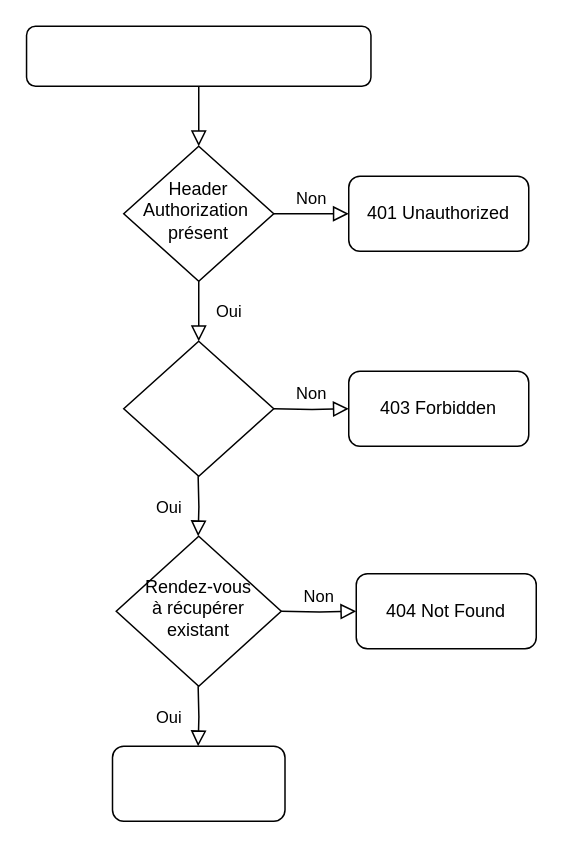
Image size: 563x848. Some labels were removed from this diagram. Each missing label, with the centre of its shape:
200 OK Avec résultat en JSON: point 198,783
GET api/v1/appoitments/{idAppoitment}: point 198,55
Utilisateur administrateur: point 198,408
